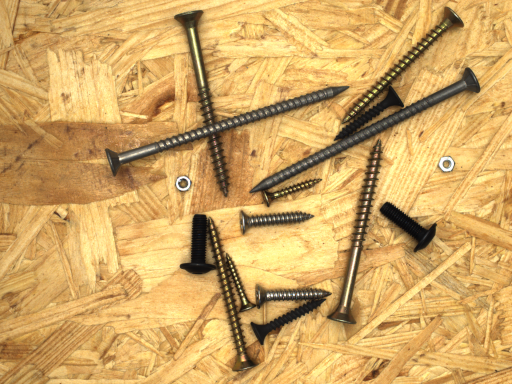screw_long: (232, 53, 497, 217), (88, 60, 365, 187)
